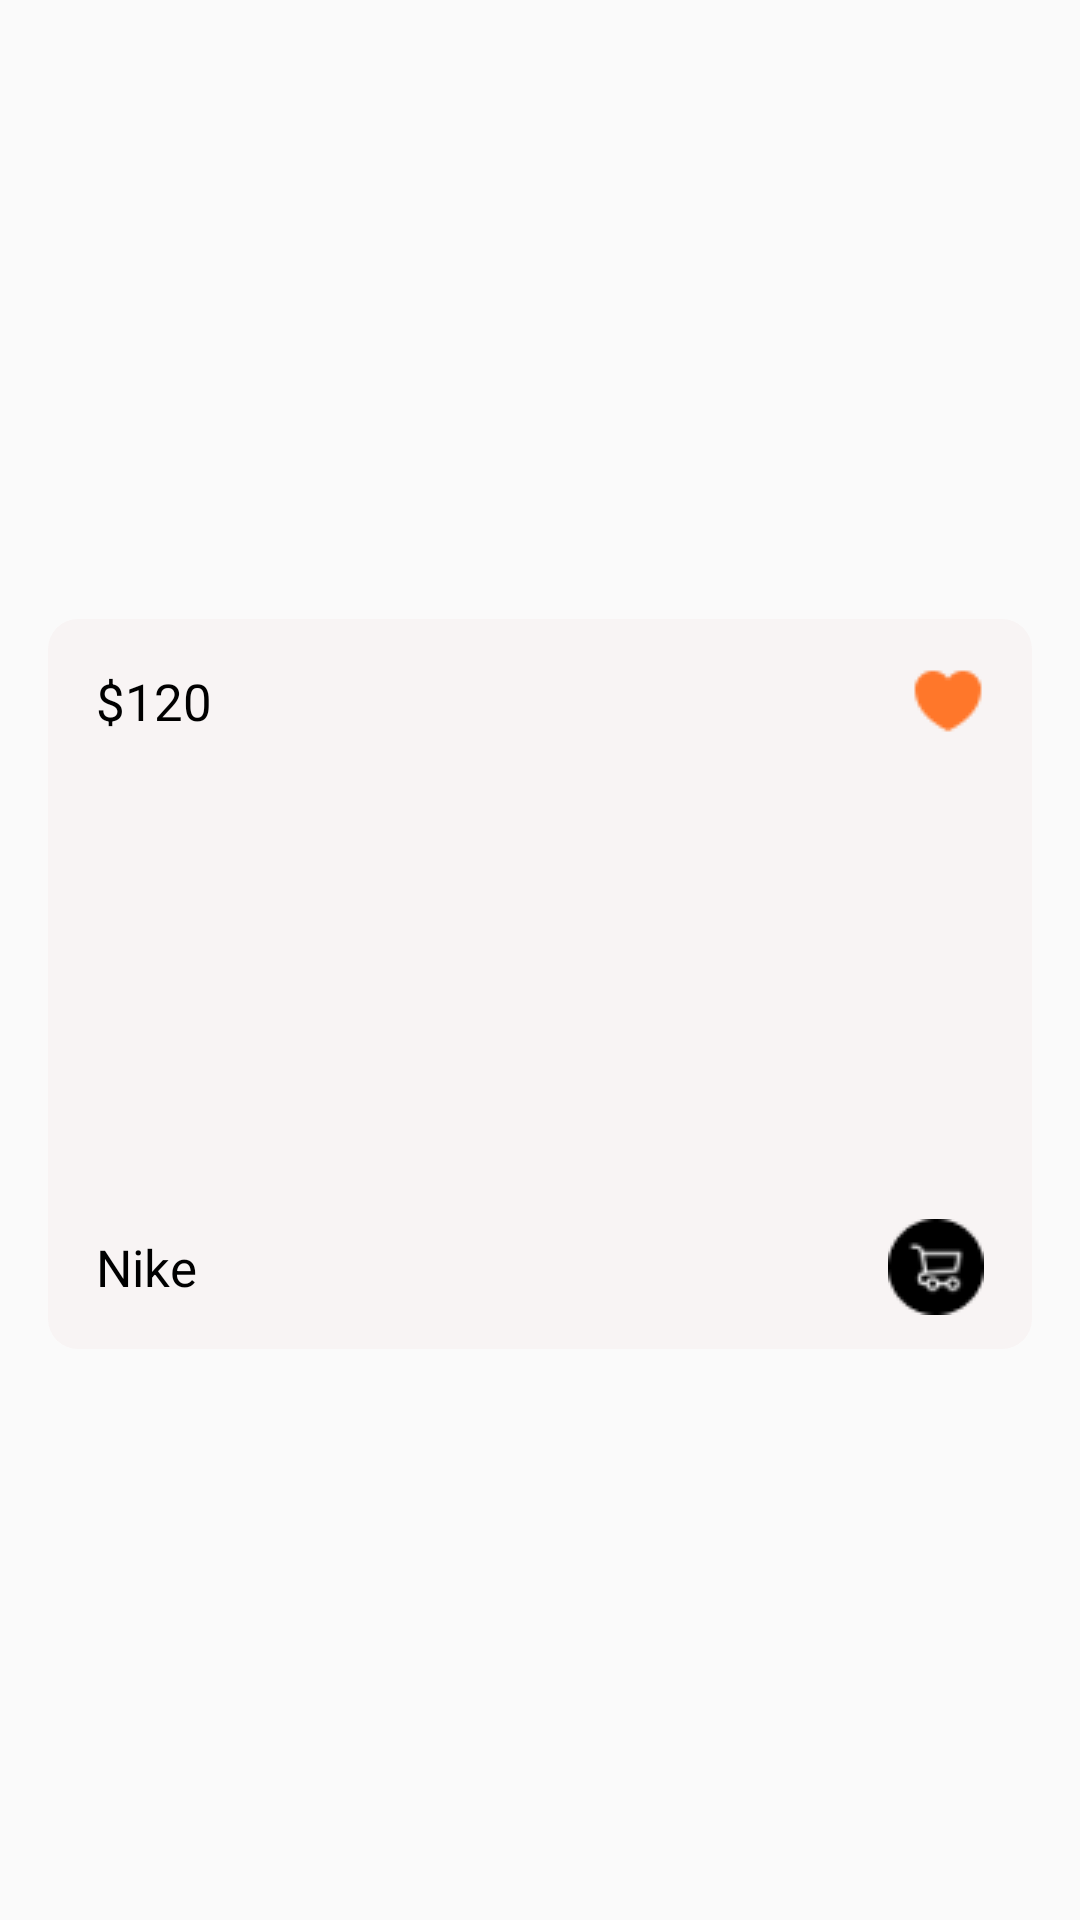

Screen size 1080*1920. Icon name, then its center in pixels as point (x, y):
cart circle: point (936, 1267)
love: point (948, 701)
